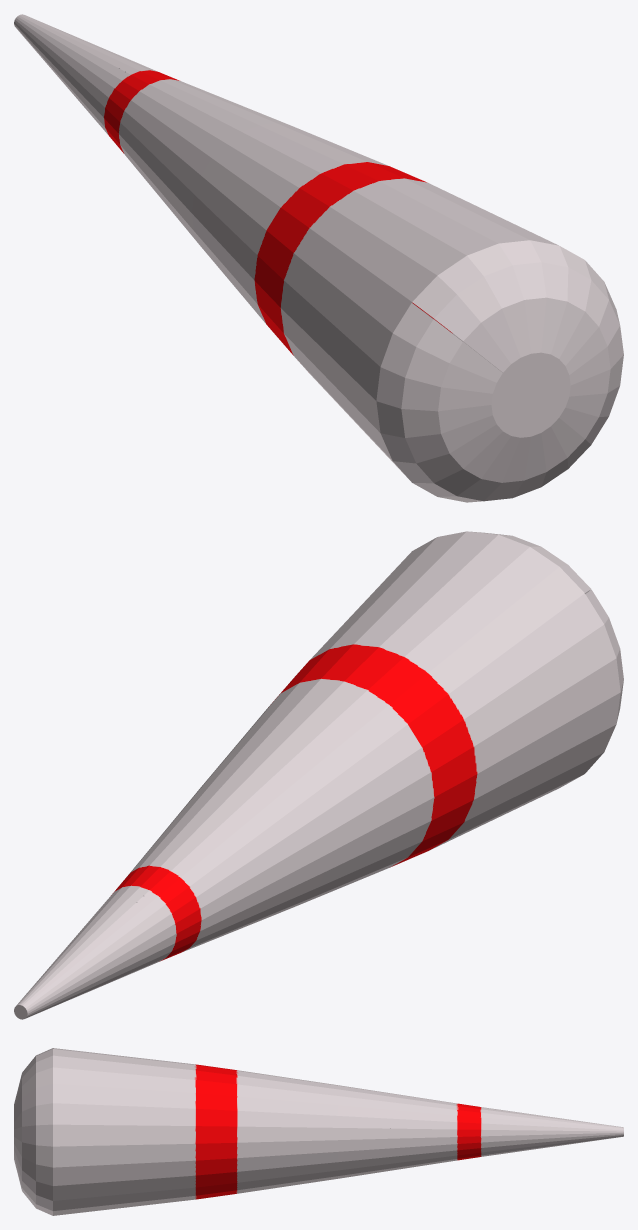
File: airgate_pillar.fbx
3 renders of one model, top to bottom at view 1: azimuth 30°, elevation 25°; view 2: azimuth 150°, elevation 25°; view 3: azimuth 270°, elevation 25°, orthographic. The views are drawn at different scales.
Parts seen in each view (by area): view 1: AirGatePillar; view 2: AirGatePillar; view 3: AirGatePillar.
Boxes of the visible parts, x1=… form: AirGatePillar: x1=14, y1=14, x2=623, y2=502; AirGatePillar: x1=14, y1=531, x2=623, y2=1019; AirGatePillar: x1=14, y1=1048, x2=623, y2=1215.
Bounding box in the file's own units: 177 × 177 × 641.
1 material, 1 textured.
